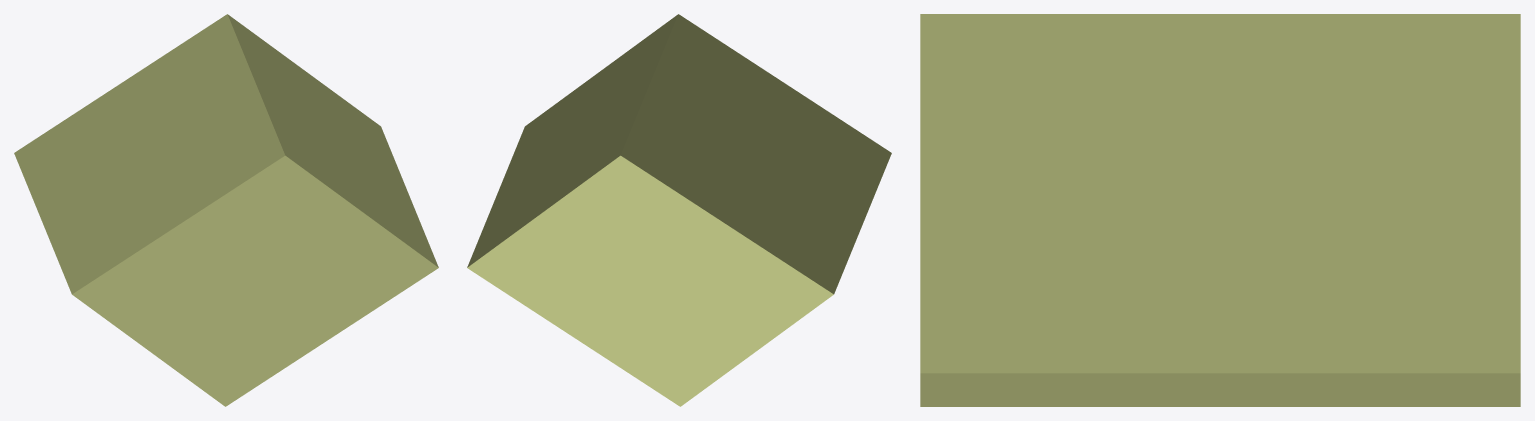
The picture shows the model from 3 angles, left to right: view 1: azimuth 30°, elevation 25°; view 2: azimuth 150°, elevation 25°; view 3: azimuth 270°, elevation 25°; orthographic projection. The views are drawn at different scales.
Visible parts, largest first — view 1: 0_1_0_2_0_2_0_3_0_0; view 2: 0_1_0_2_0_2_0_3_0_0; view 3: 0_1_0_2_0_2_0_3_0_0.
Boxes of the visible parts, x1,y1,x2,y2 form: 0_1_0_2_0_2_0_3_0_0: (14,14,438,406); 0_1_0_2_0_2_0_3_0_0: (467,14,891,406); 0_1_0_2_0_2_0_3_0_0: (920,14,1520,406).
Bounding box in the file's own units: 9.18 × 7.84 × 9.
